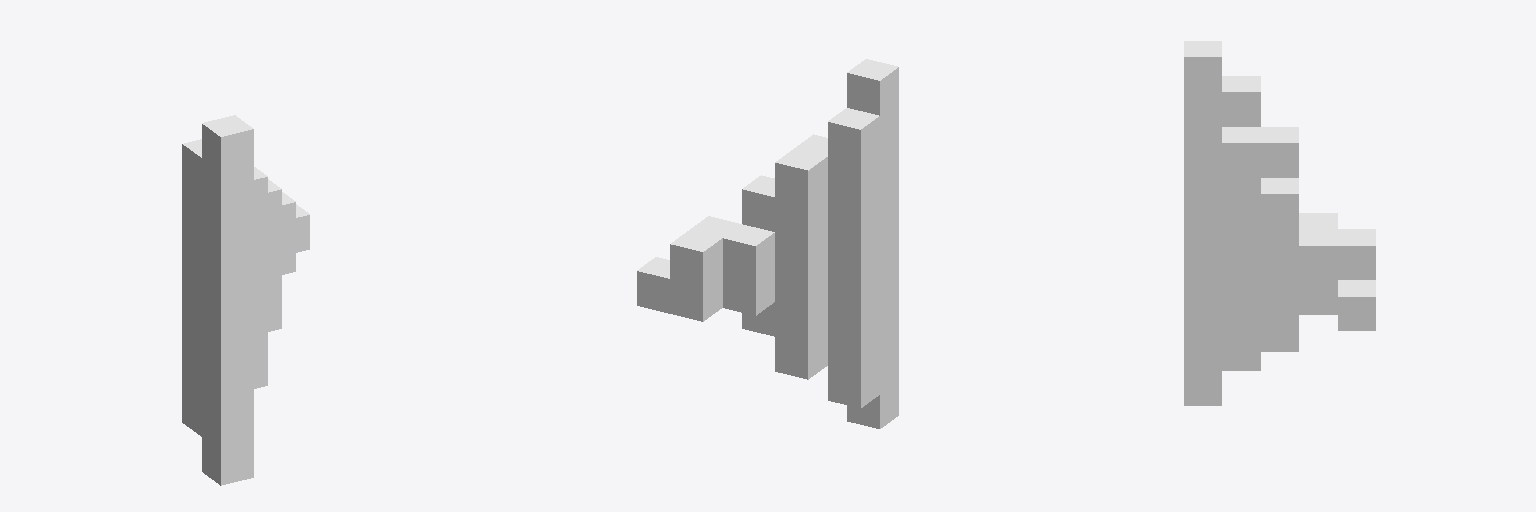
File: bluefish-0.obj
3 views of the same model, side by side, from view 1: azimuth 30°, elevation 25°; view 2: azimuth 150°, elevation 25°; view 3: azimuth 270°, elevation 25° (orthographic).
Parts seen in each view (by area): view 1: object 1; view 2: object 1; view 3: object 1.
Part boxes in pixels (left/top/right/bottom): object 1: left=182, top=115, right=309, bottom=485; object 1: left=637, top=59, right=898, bottom=428; object 1: left=1184, top=41, right=1375, bottom=405.
Bounding box in the file's own units: 0.5 × 1 × 0.5.